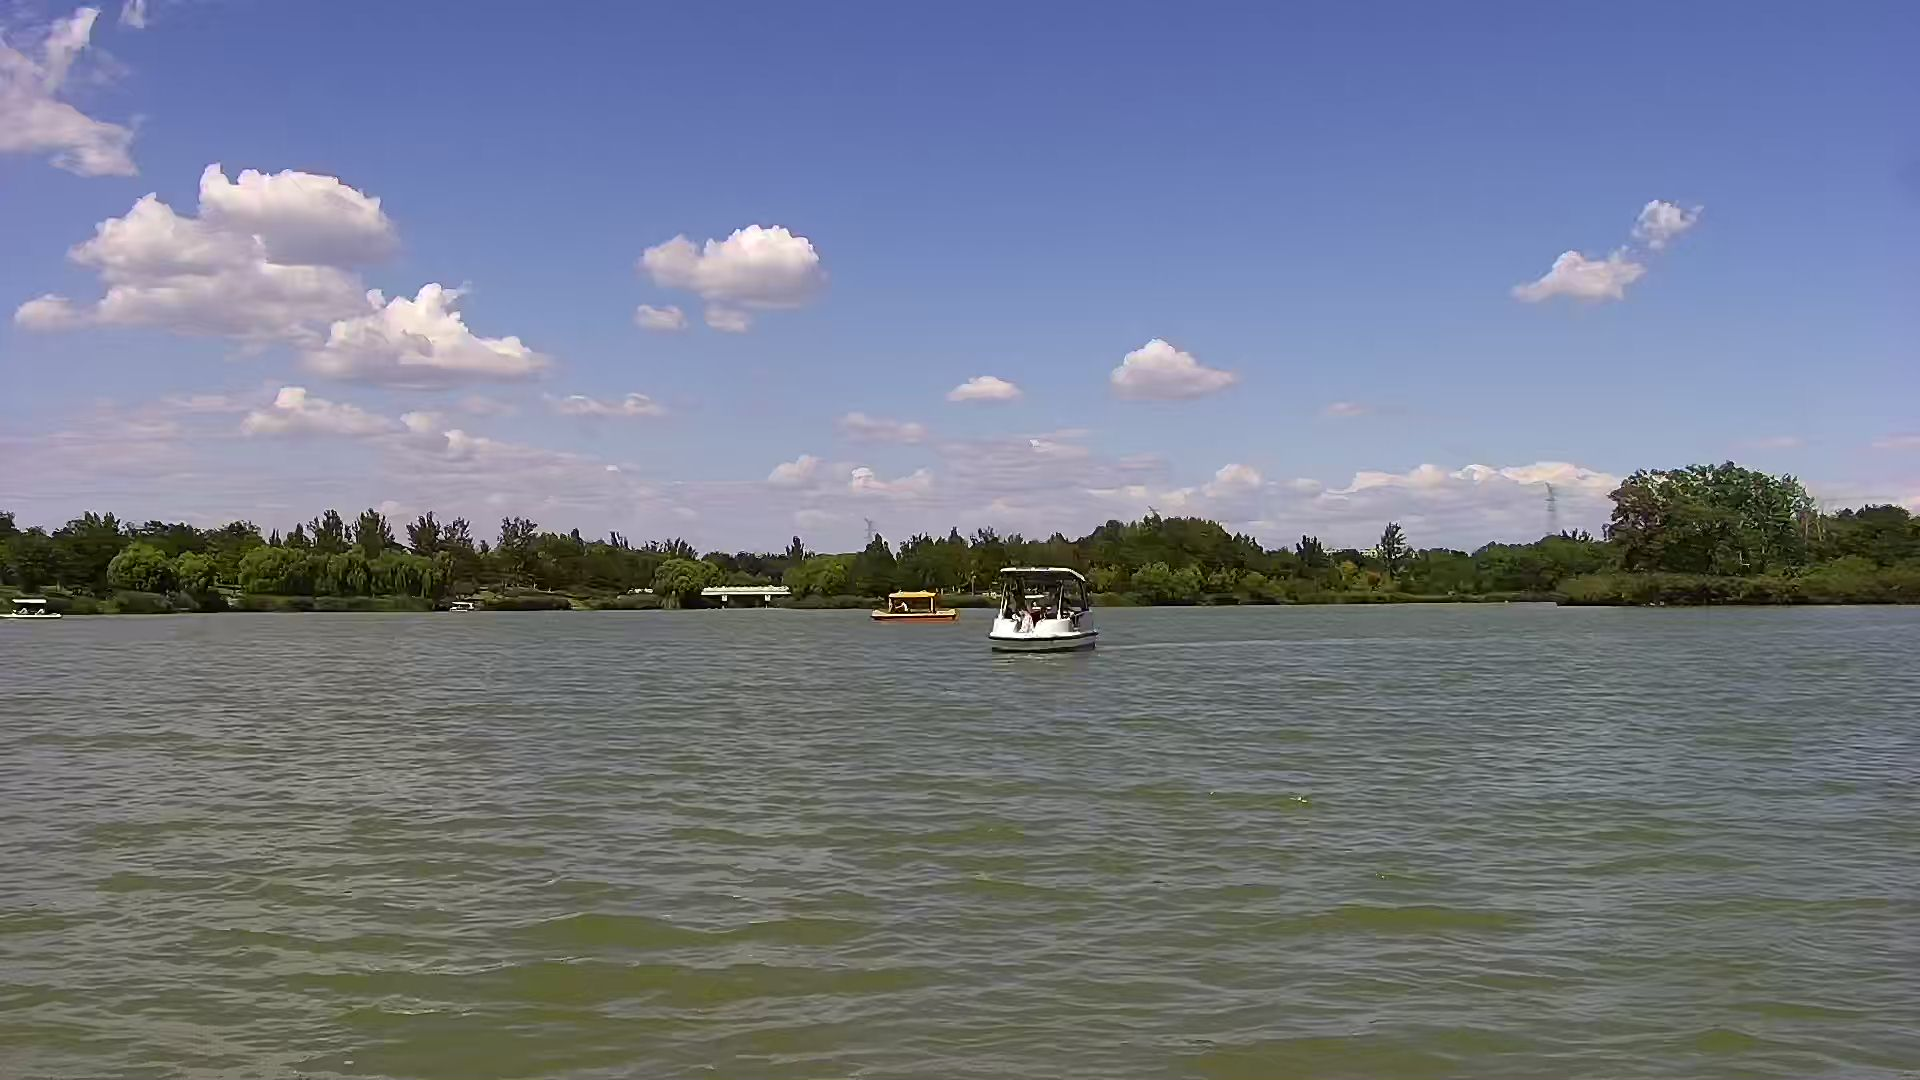boat: (989, 567, 1096, 651), (1, 593, 61, 628), (876, 589, 953, 615)
bridge: (708, 585, 791, 609)
